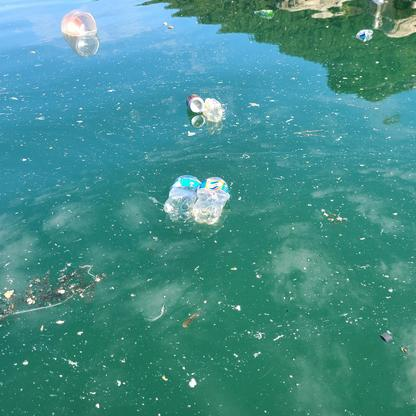can: (185, 90, 204, 114)
plastic bottle: (198, 174, 231, 226), (164, 173, 197, 223)
